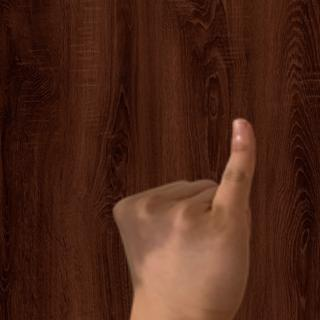FINE: (102, 109, 265, 320)
